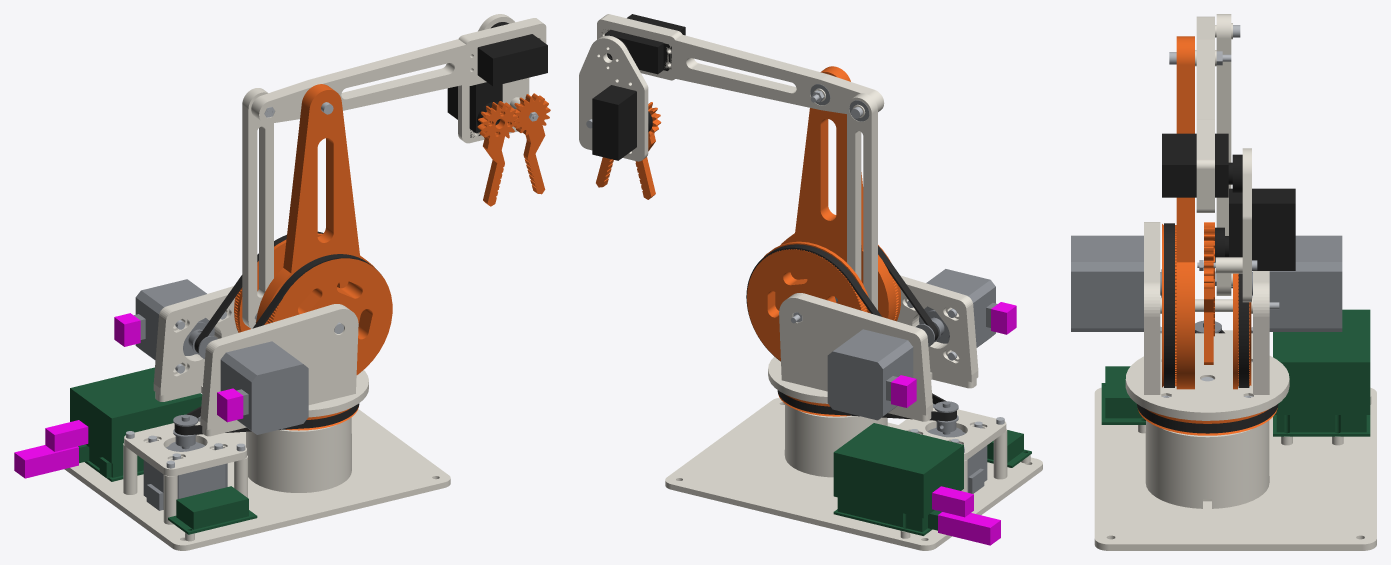
Rendered from assembly.glb.
3 views of the same model, side by side, from view 1: azimuth 30°, elevation 25°; view 2: azimuth 150°, elevation 25°; view 3: azimuth 270°, elevation 25° (orthographic). The views are drawn at different scales.
Visible parts, largest first — view 1: base, lower-shank, turret, upper-shank, uno-cnc-shield, pleuel, shoulder-motor, yaw-motor-plate, wrist-servo, buck-converter, uno-usb-keepout, elbow-motor (+11 smaller); view 2: base, turret, uno-cnc-shield, upper-shank, lower-shank, lever-pulley, elbow-motor, pleuel, gripper-base, gripper-servo, uno-usb-keepout, shoulder-motor (+10 smaller); view 3: base, turret, uno-cnc-shield, shoulder-motor, elbow-motor, lower-shank, gripper-servo, upper-shank, wrist-servo, pleuel, gripper-base, buck-converter (+8 smaller).
Part boxes in pixels (left/top/right/bottom): base: left=64, top=409, right=450, bottom=550; lower-shank: left=256, top=84, right=392, bottom=374; turret: left=153, top=286, right=368, bottom=436; upper-shank: left=251, top=18, right=546, bottom=123; uno-cnc-shield: left=70, top=367, right=202, bottom=481; pleuel: left=242, top=88, right=273, bottom=328; shoulder-motor: left=220, top=341, right=308, bottom=434; yaw-motor-plate: left=124, top=421, right=246, bottom=476; wrist-servo: left=477, top=34, right=547, bottom=86; buck-converter: left=168, top=486, right=257, bottom=534; uno-usb-keepout: left=14, top=420, right=88, bottom=478; elbow-motor: left=134, top=279, right=214, bottom=360; base: left=665, top=398, right=1042, bottom=550; turret: left=768, top=275, right=978, bottom=421; uno-cnc-shield: left=833, top=423, right=963, bottom=535; upper-shank: left=597, top=14, right=884, bottom=113; lower-shank: left=775, top=66, right=900, bottom=321; lever-pulley: left=747, top=241, right=870, bottom=360; elbow-motor: left=827, top=329, right=913, bottom=420; pleuel: left=847, top=93, right=877, bottom=310; gripper-base: left=579, top=35, right=648, bottom=161; gripper-servo: left=592, top=85, right=636, bottom=160; uno-usb-keepout: left=932, top=486, right=1000, bottom=545; shoulder-motor: left=919, top=269, right=997, bottom=347; base: left=1094, top=387, right=1376, bottom=550; turret: left=1125, top=222, right=1289, bottom=420; uno-cnc-shield: left=1273, top=309, right=1370, bottom=436; shoulder-motor: left=1071, top=235, right=1143, bottom=331; elbow-motor: left=1231, top=235, right=1342, bottom=331; lower-shank: left=1162, top=36, right=1194, bottom=389; gripper-servo: left=1225, top=188, right=1295, bottom=270; upper-shank: left=1196, top=16, right=1214, bottom=212; wrist-servo: left=1162, top=133, right=1232, bottom=197; pleuel: left=1216, top=14, right=1231, bottom=295; gripper-base: left=1215, top=148, right=1251, bottom=302; buck-converter: left=1101, top=366, right=1145, bottom=424.
Size of the model in its own units: 0.3497 by 0.282 by 0.168.
